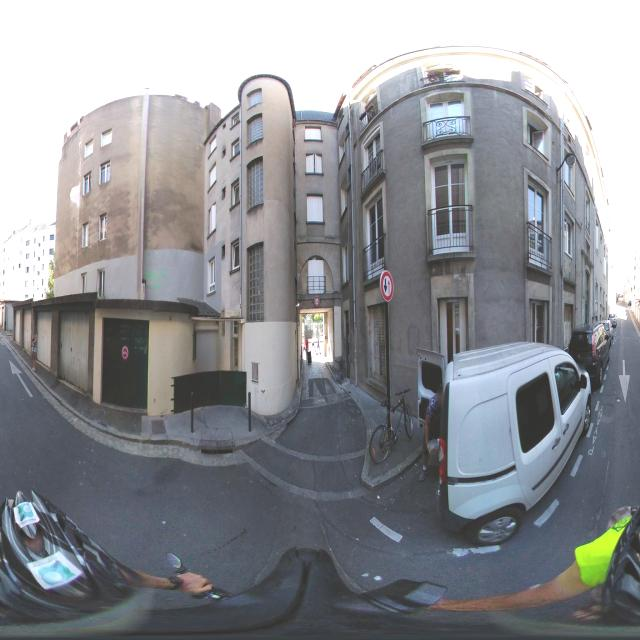car: (436, 340, 594, 546), (567, 326, 607, 390), (600, 319, 612, 345)
